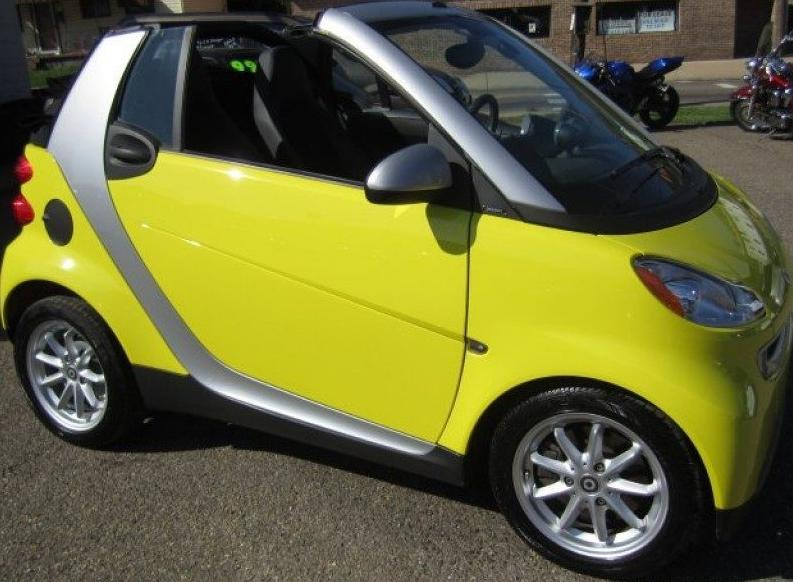headlight: (622, 254, 768, 342)
